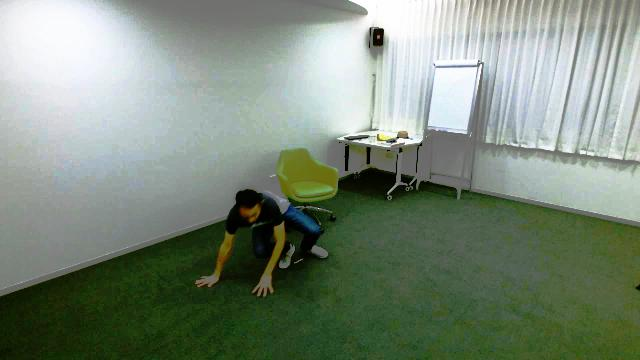jatuh: (184, 178, 332, 300)
